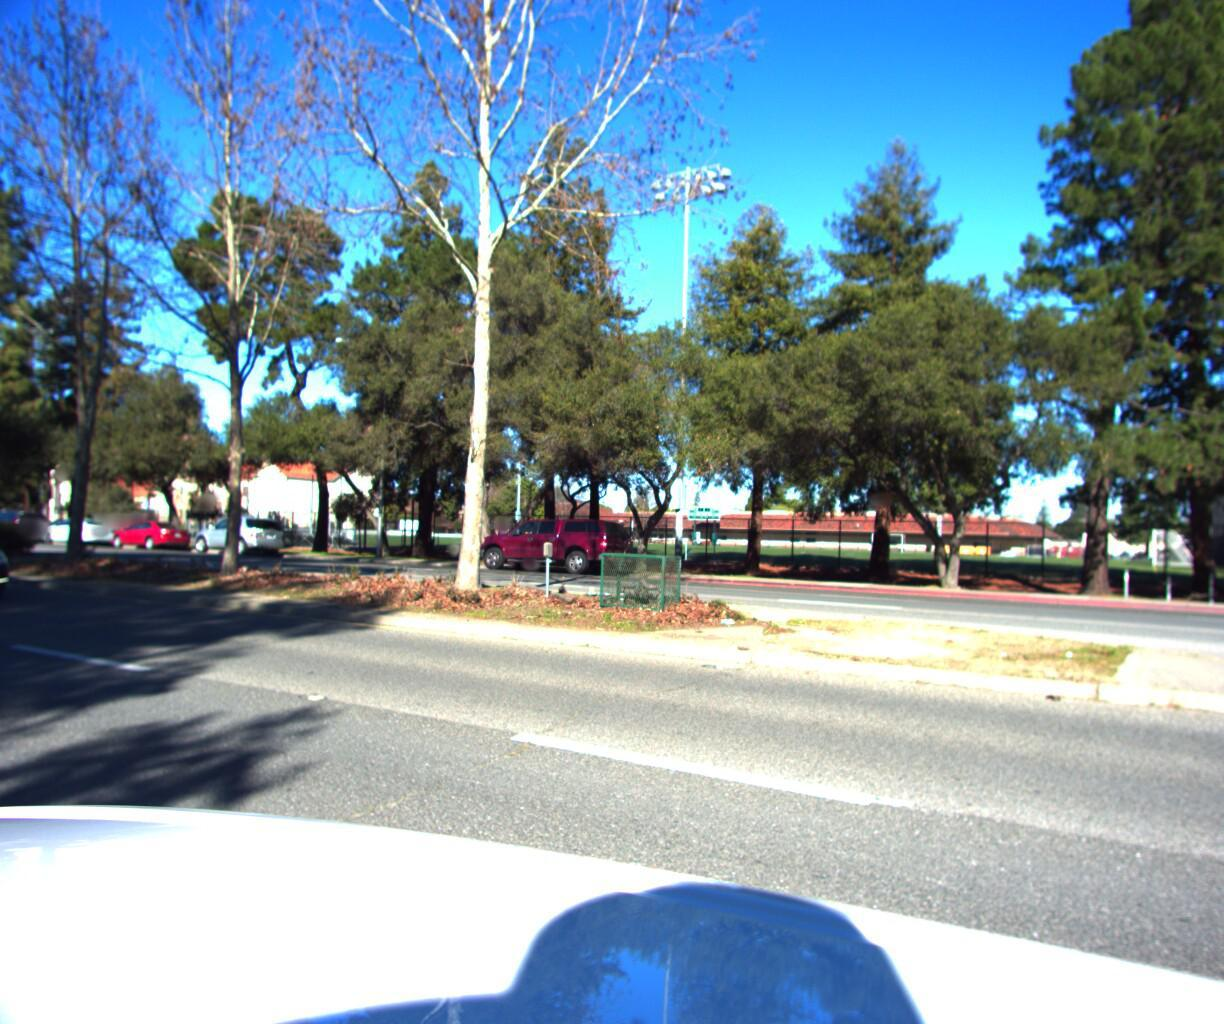car: (469, 514, 636, 577), (186, 514, 294, 562), (0, 498, 34, 612), (106, 520, 199, 556), (40, 517, 125, 551), (0, 513, 54, 545)
